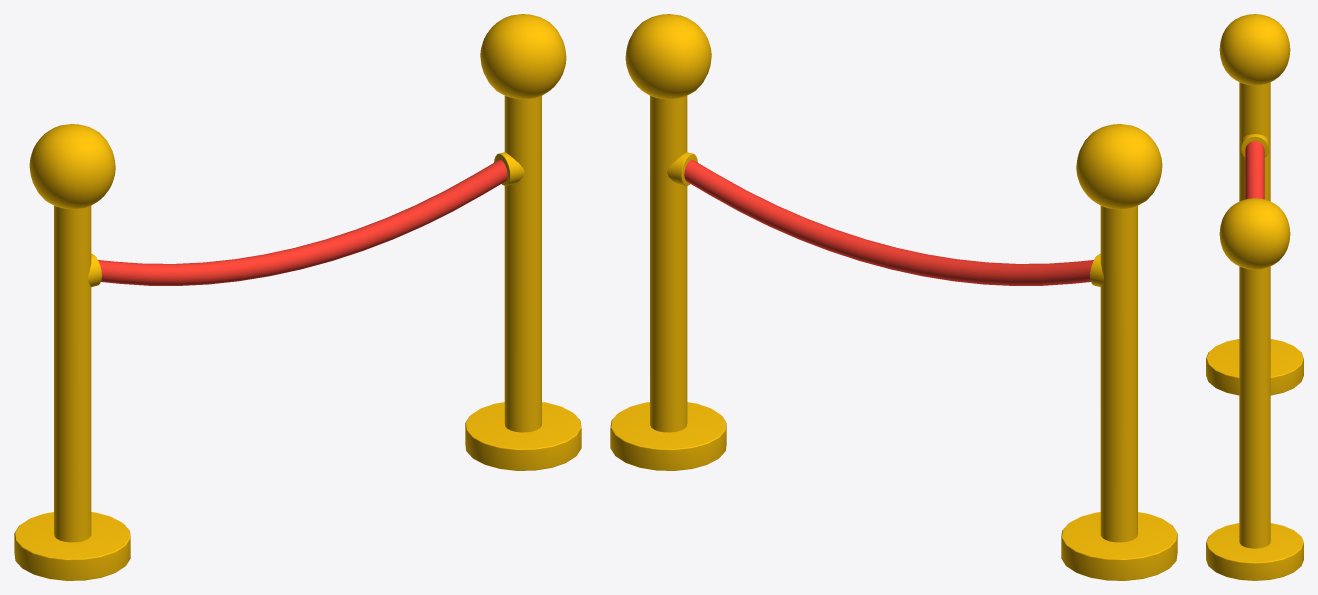
File: Public_9_Museum_Fence_1.glb
3 views of the same model, side by side, from view 1: azimuth 30°, elevation 25°; view 2: azimuth 150°, elevation 25°; view 3: azimuth 270°, elevation 25° (orthographic). The views are drawn at different scales.
Visible parts, largest first — view 1: Public_9_Museum_Fence_1; view 2: Public_9_Museum_Fence_1; view 3: Public_9_Museum_Fence_1.
Part boxes in pixels (x1=…): Public_9_Museum_Fence_1: x1=14, y1=14, x2=581, y2=580; Public_9_Museum_Fence_1: x1=610, y1=14, x2=1177, y2=580; Public_9_Museum_Fence_1: x1=1206, y1=14, x2=1303, y2=580.
Size of the model in its own units: 2.34 by 1.74 by 0.43.
1 material, 1 textured.
